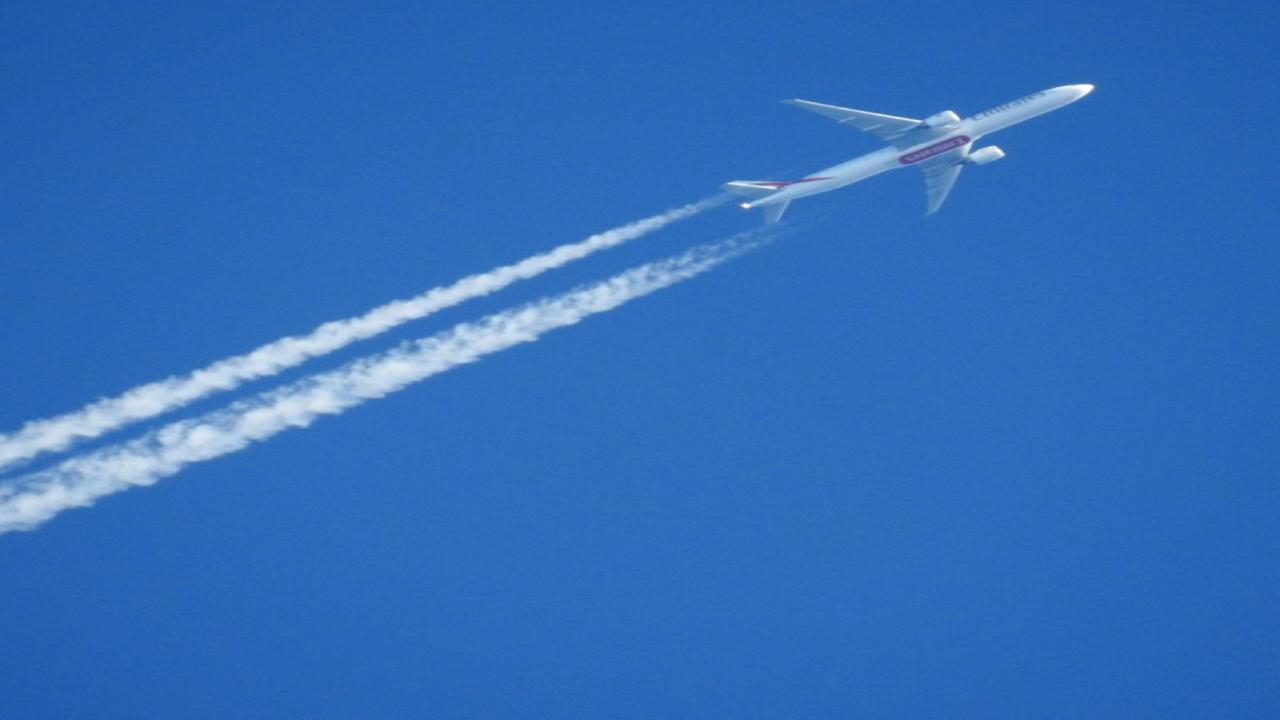Airplane: (705, 63, 1110, 240)
